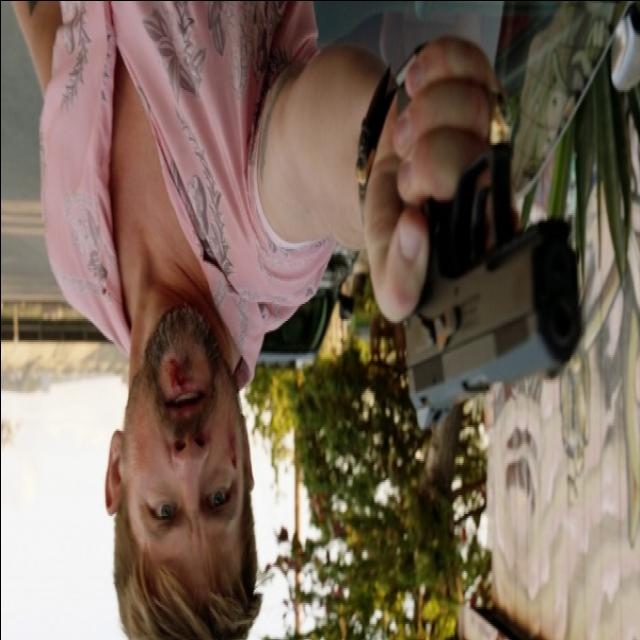weapons: (358, 122, 590, 452)
